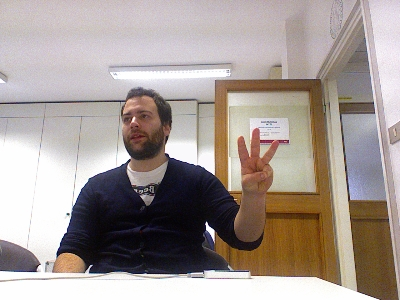三分: (235, 126, 280, 193)
